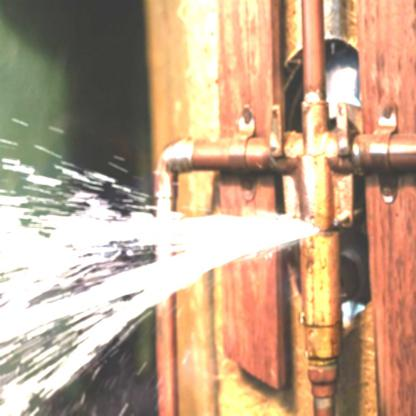burst: (258, 193, 338, 255)
